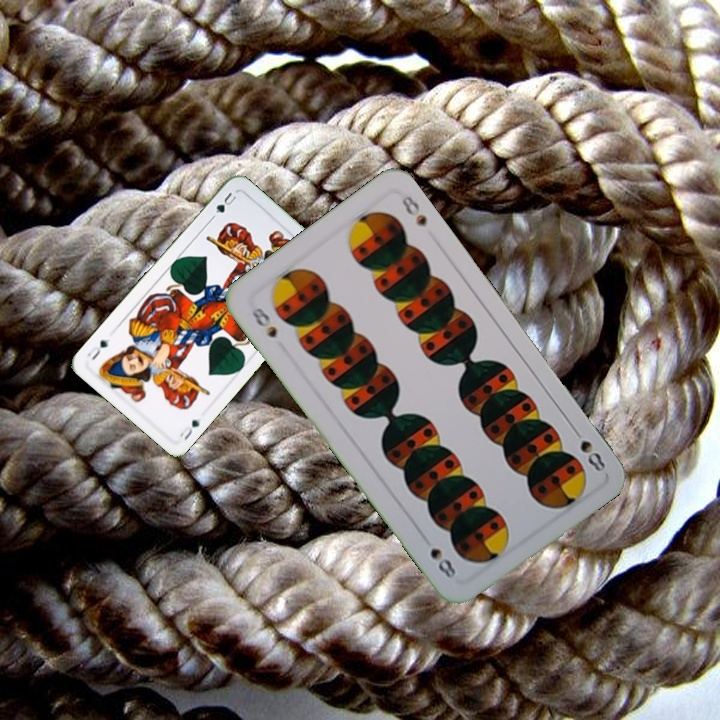GU: (208, 188, 239, 221), (176, 414, 204, 443)
S8: (247, 303, 280, 341), (576, 436, 608, 475)
